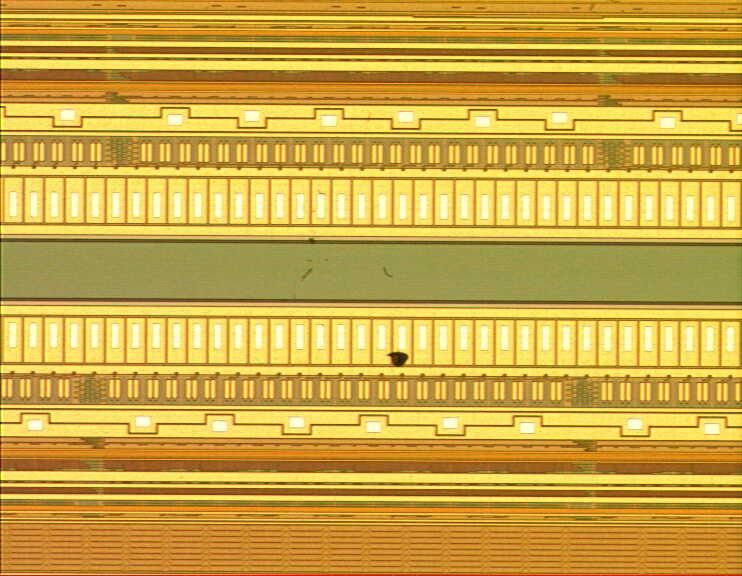PO CONTAMINATION: (289, 232, 420, 378)
